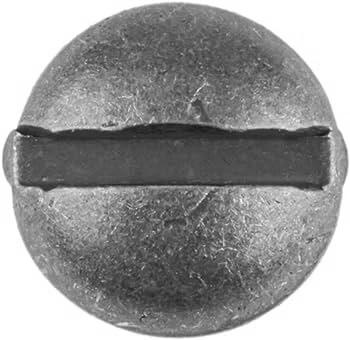slotted: (12, 4, 345, 337)
